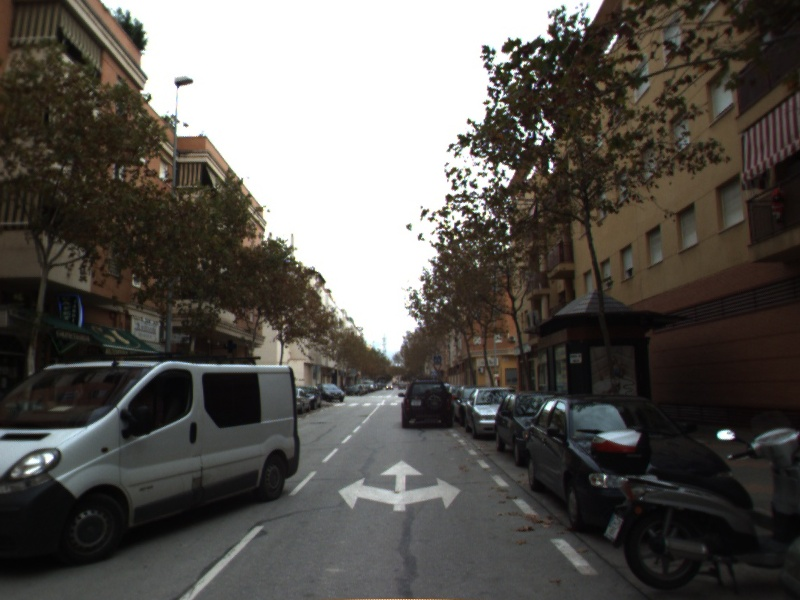STRAIGHT_LEFT_RIGHT: (335, 458, 464, 513)
